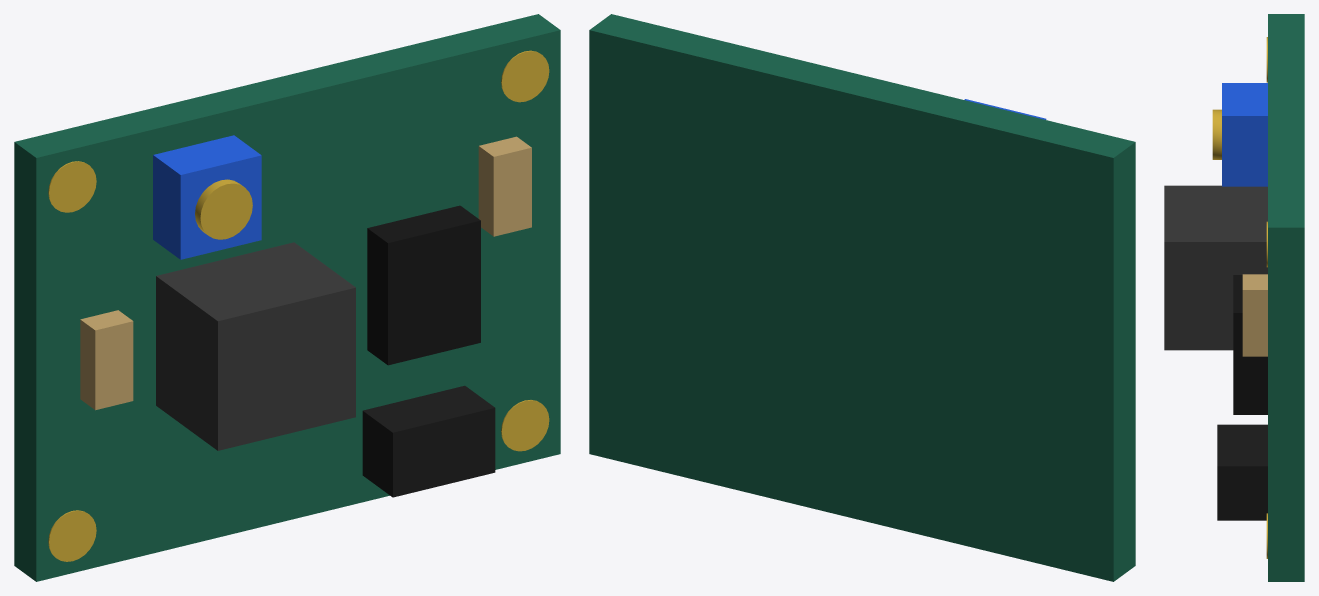
The model's file is mp1584-module.glb.
3 renders of one model, left to right at view 1: azimuth 30°, elevation 25°; view 2: azimuth 150°, elevation 25°; view 3: azimuth 270°, elevation 25°, orthographic. The views are drawn at different scales.
Visible parts, largest first — view 1: PCB-GREEN, INDUCTOR, IC-BODY, DIODE, CAP, TRIMMER, MET-PAD, MET-SCREW; view 2: PCB-GREEN; view 3: PCB-GREEN, INDUCTOR, DIODE, TRIMMER, IC-BODY, CAP, MET-SCREW, MET-PAD.
Boxes of the visible parts, x1=… form: PCB-GREEN: x1=14, y1=14, x2=560, y2=581; INDUCTOR: x1=156, y1=242, x2=355, y2=450; IC-BODY: x1=367, y1=205, x2=480, y2=365; DIODE: x1=362, y1=385, x2=495, y2=497; CAP: x1=80, y1=136, x2=531, y2=410; TRIMMER: x1=153, y1=135, x2=261, y2=259; MET-PAD: x1=48, y1=50, x2=549, y2=561; MET-SCREW: x1=195, y1=179, x2=252, y2=239; PCB-GREEN: x1=589, y1=14, x2=1135, y2=581; PCB-GREEN: x1=1268, y1=14, x2=1304, y2=581; INDUCTOR: x1=1164, y1=185, x2=1267, y2=350; DIODE: x1=1217, y1=424, x2=1267, y2=520; TRIMMER: x1=1222, y1=83, x2=1267, y2=186; IC-BODY: x1=1233, y1=275, x2=1267, y2=414; CAP: x1=1242, y1=274, x2=1267, y2=356; MET-SCREW: x1=1212, y1=109, x2=1221, y2=159; MET-PAD: x1=1266, y1=37, x2=1267, y2=558.
Size of the model in its own units: 22 by 17 by 6.1.
